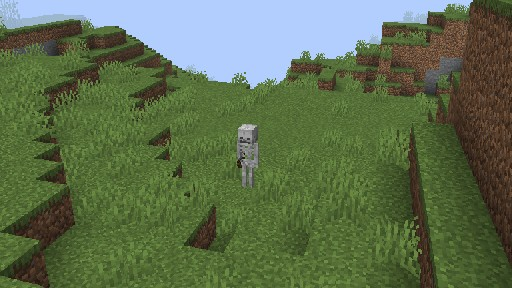skeleton: (236, 122, 259, 187)
